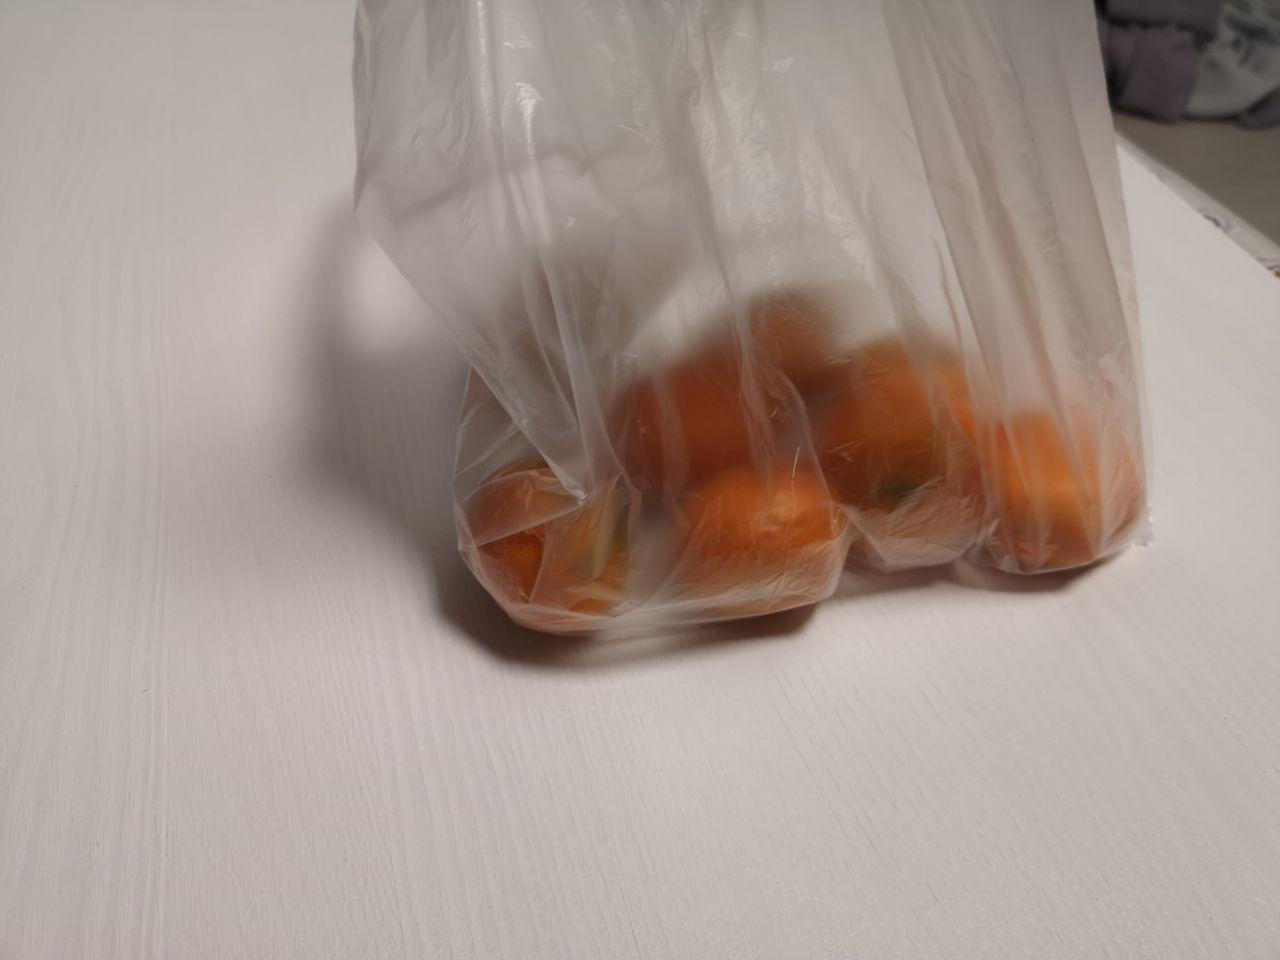clementin: (460, 254, 1165, 641)
